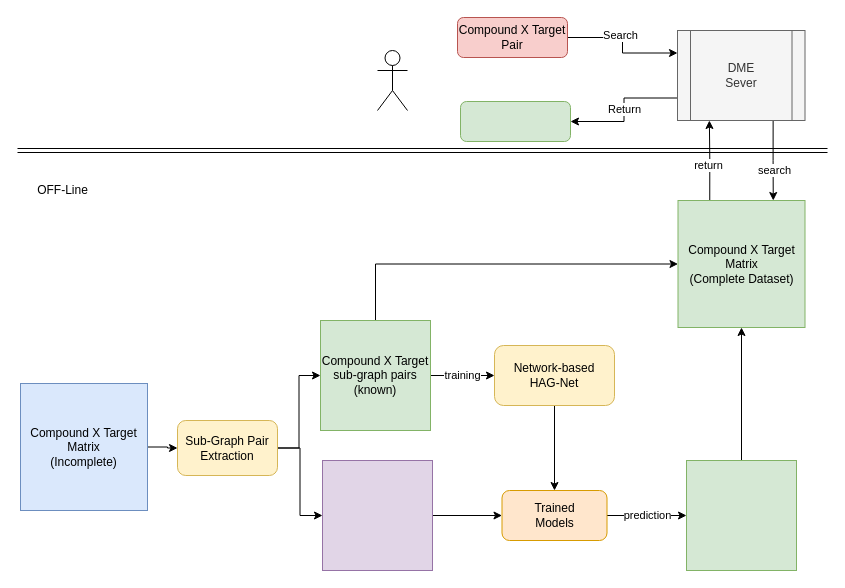
Some shapes in this 845 by 588 pixel diagram are drawn without their labels. The centre of each missing label's shape, as x and y in pixels:
"Actor" goes at [392,80].
"Compound X Target Interaction Score" goes at [515,121].
"Compound X Target sub-graph pairs (inferred)" goes at [741,515].
"Compound X Target sub-graph pairs (unknown)" goes at [377,515].
